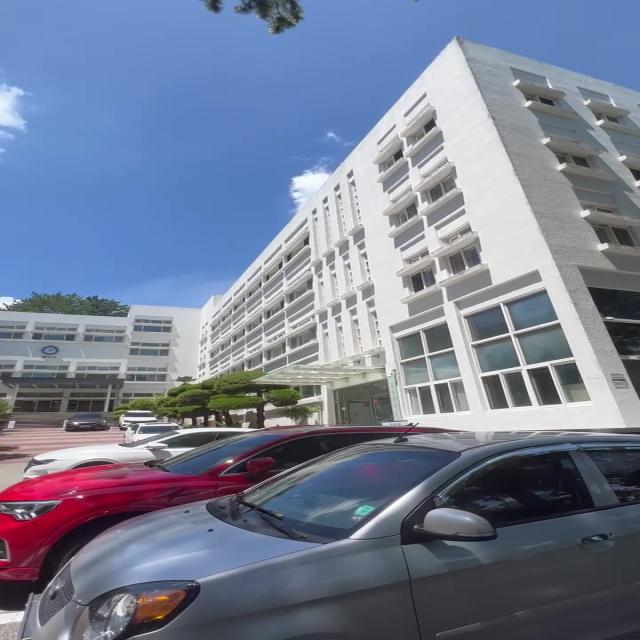building: (5, 34, 640, 406)
